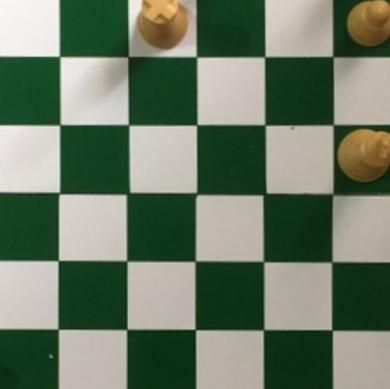white-king: (329, 128, 390, 185)
white-pawn: (344, 0, 390, 49)
white-rook: (134, 0, 189, 49)
